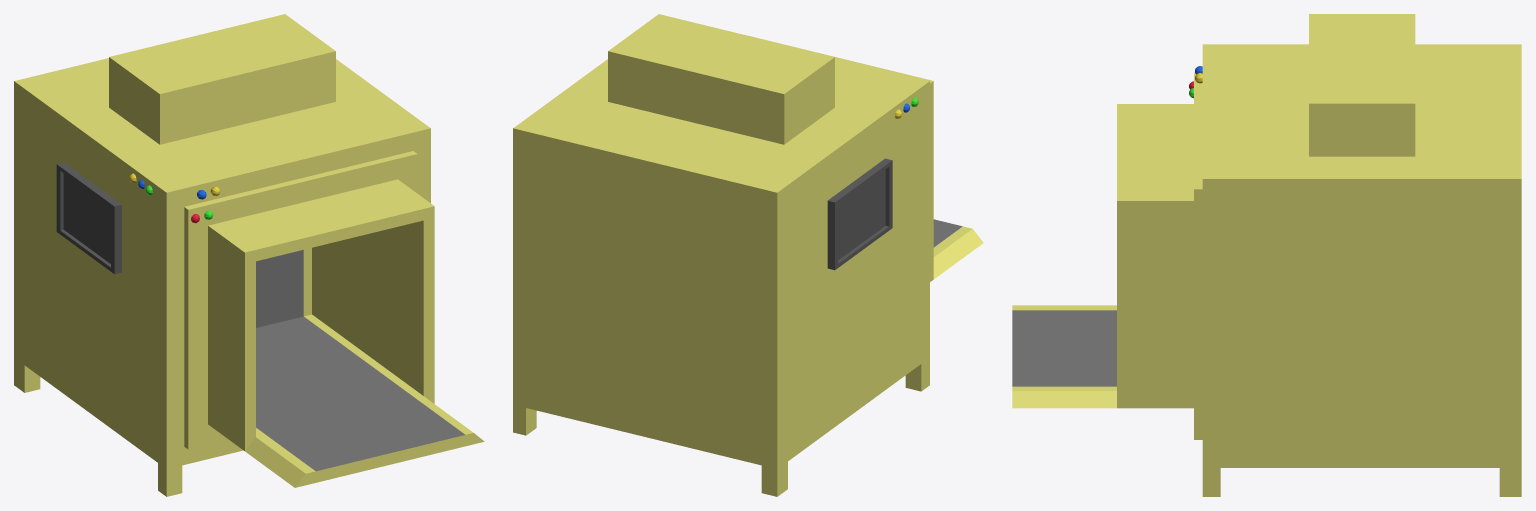
Rendered from xray.fbx.
The picture shows the model from 3 angles, left to right: view 1: azimuth 30°, elevation 25°; view 2: azimuth 150°, elevation 25°; view 3: azimuth 270°, elevation 25°; orthographic projection. The views are drawn at different scales.
Visible parts, largest first — view 1: Cube, Cube.001; view 2: Cube, Cube.001; view 3: Cube.
Boxes of the visible parts, x1,y1,x2,y2 form: Cube: [14, 14, 484, 496]; Cube.001: [56, 162, 121, 274]; Cube: [513, 14, 983, 496]; Cube.001: [827, 158, 892, 270]; Cube: [1012, 14, 1521, 496].
Size of the model in its own units: 1.44 by 1.8 by 2.24.
